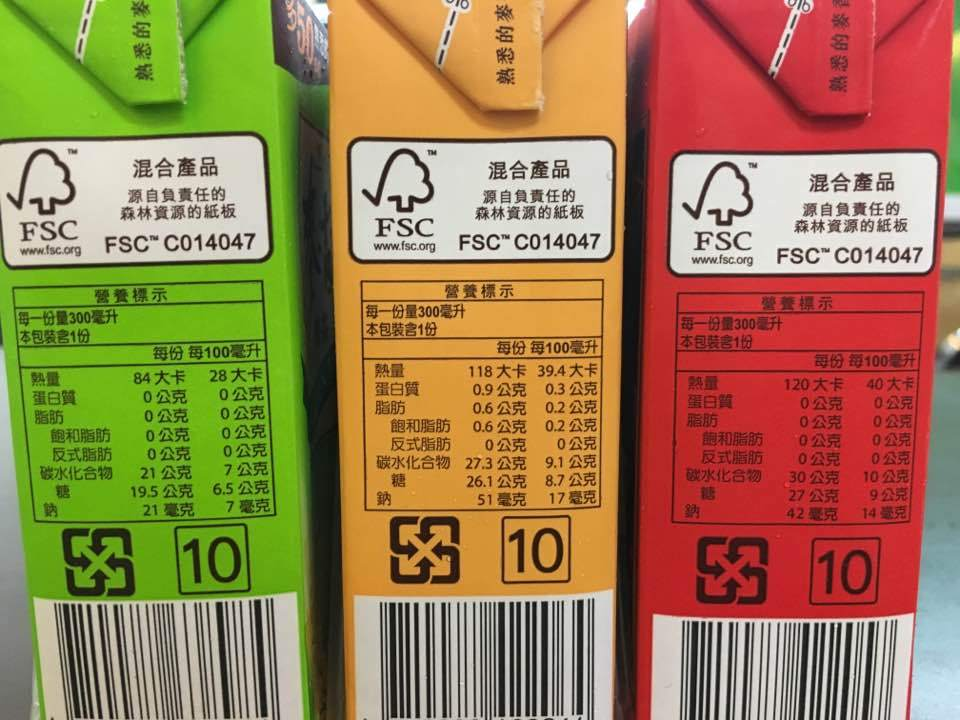milk tea: (329, 3, 624, 720)
